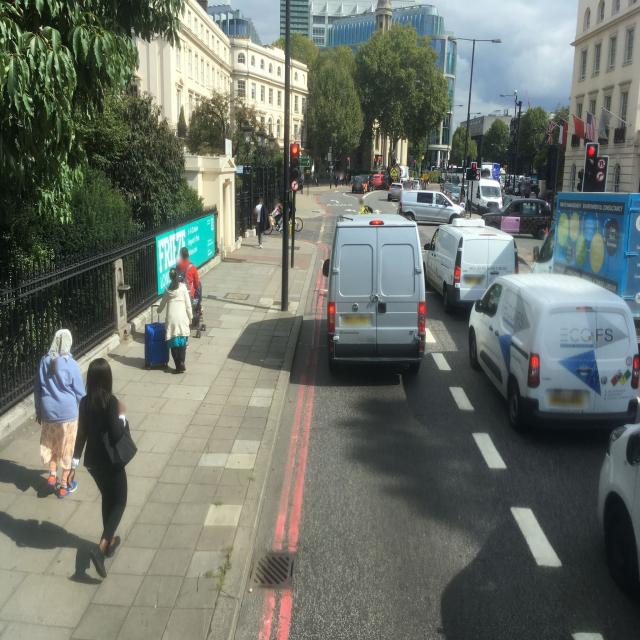car: (467, 270, 640, 434), (315, 210, 426, 376), (595, 363, 640, 625), (424, 220, 520, 314), (483, 196, 553, 238), (397, 188, 466, 224), (467, 177, 503, 216), (441, 182, 465, 204), (351, 174, 368, 194), (388, 181, 403, 201), (370, 173, 383, 189)
